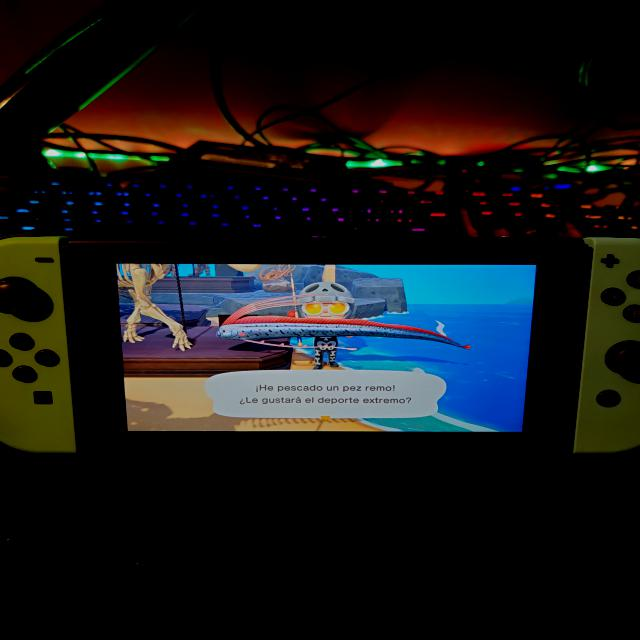text_bubble: (205, 367, 449, 421)
